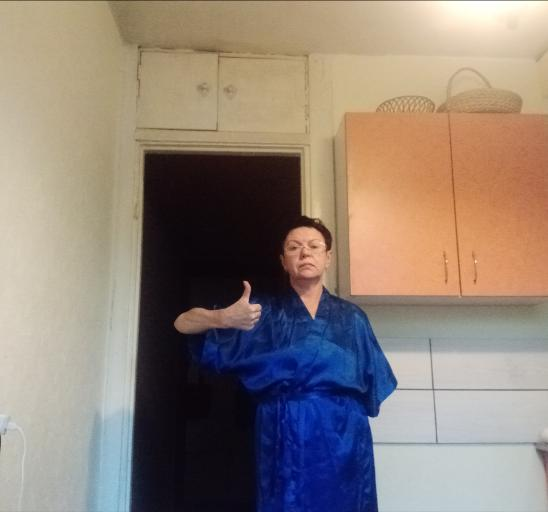like: (226, 278, 264, 333)
